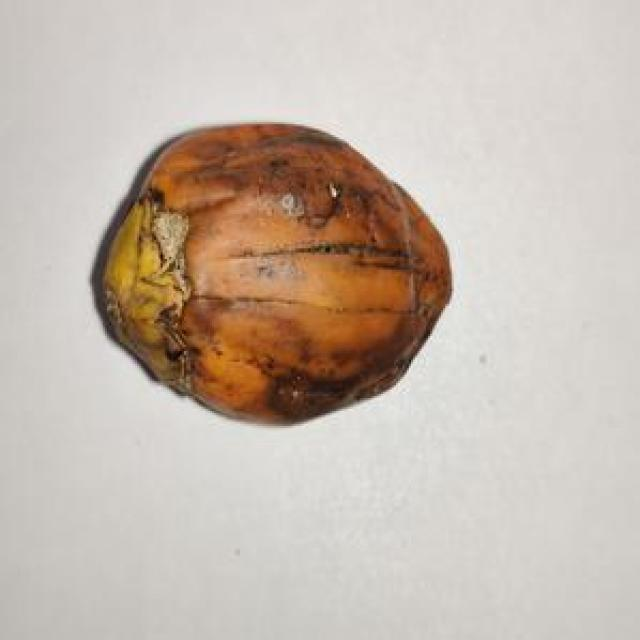damaged: (188, 214, 550, 520)
